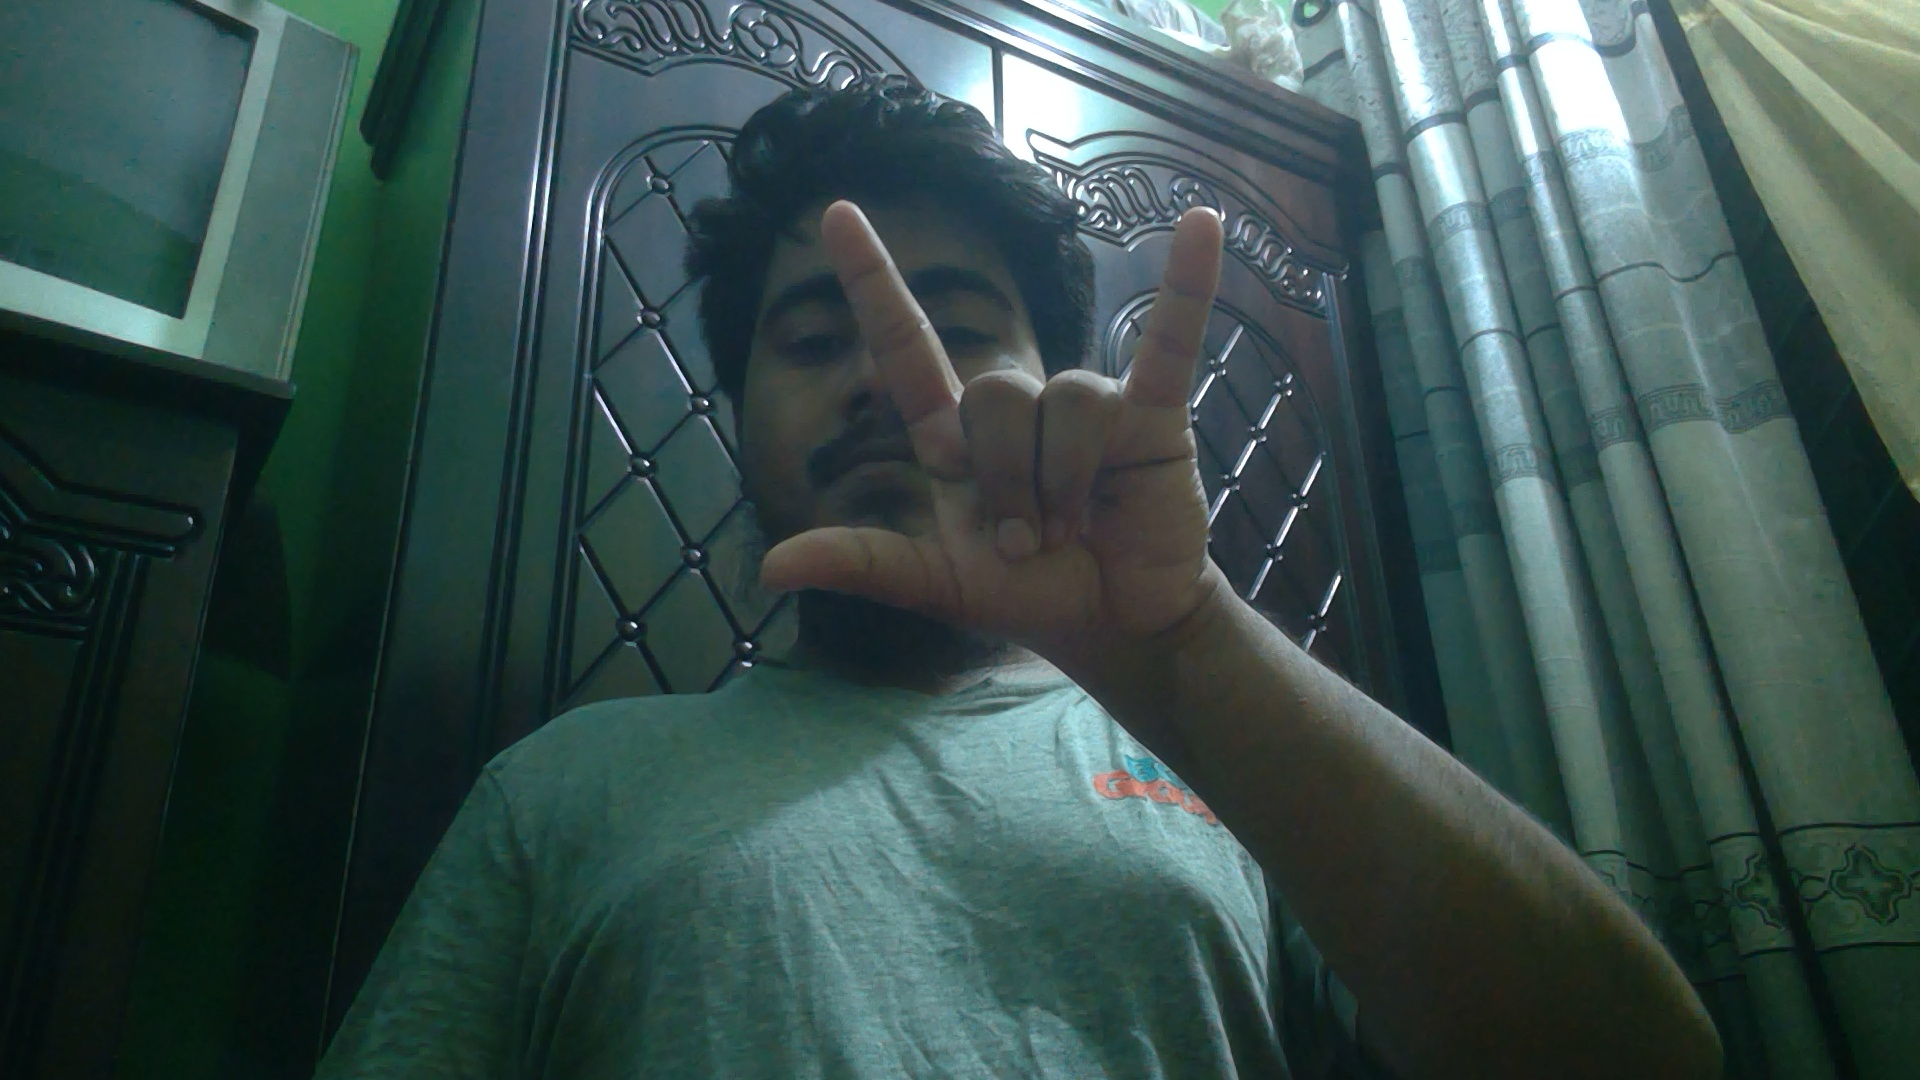Iloveyou: (756, 179, 1236, 653)
